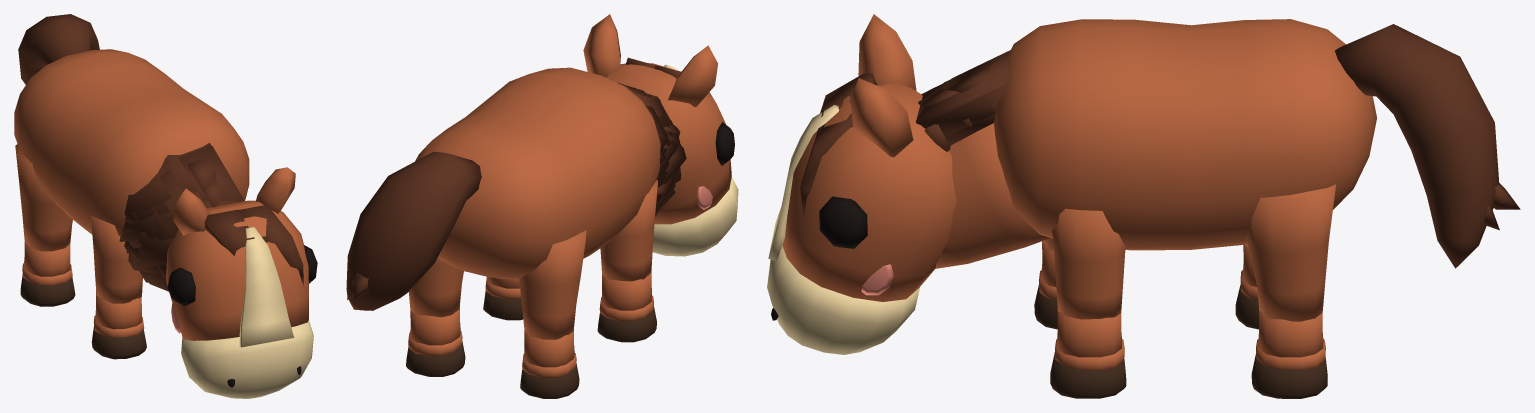
File: feeding.glb
3 views of the same model, side by side, from view 1: azimuth 30°, elevation 25°; view 2: azimuth 150°, elevation 25°; view 3: azimuth 270°, elevation 25° (orthographic). The views are drawn at different scales.
Parts seen in each view (by area): view 1: body, head, mane, muzzle, blaze, tail, leg_hr_upper, leg_fr_upper, forelock, leg_fr_lower, eyes, leg_hr_lower (+6 smaller); view 2: body, tail, head, leg_hr_upper, leg_fr_upper, muzzle, mane, leg_hl_upper, ear_r, ear_l, leg_fr_lower, leg_hl_lower (+10 smaller); view 3: body, head, tail, leg_hl_upper, neck, muzzle, leg_fl_upper, mane, ear_l, ear_r, leg_fl_lower, leg_hl_lower (+10 smaller).
Part boxes in pixels (bbox=[...]): body: bbox=[14, 49, 249, 236]; head: bbox=[166, 200, 308, 340]; mane: bbox=[119, 143, 244, 291]; muzzle: bbox=[181, 320, 313, 398]; blaze: bbox=[239, 227, 294, 347]; tail: bbox=[18, 14, 99, 84]; leg_hr_upper: bbox=[15, 144, 72, 251]; leg_fr_upper: bbox=[91, 215, 142, 303]; forelock: bbox=[204, 205, 303, 285]; leg_fr_lower: bbox=[95, 291, 142, 329]; eyes: bbox=[167, 245, 317, 387]; leg_hr_lower: bbox=[24, 241, 70, 276]; body: bbox=[415, 67, 660, 278]; tail: bbox=[346, 151, 481, 310]; head: bbox=[607, 63, 731, 224]; leg_hr_upper: bbox=[519, 230, 586, 339]; leg_fr_upper: bbox=[600, 180, 658, 281]; muzzle: bbox=[652, 177, 738, 256]; mane: bbox=[617, 82, 686, 216]; leg_hl_upper: bbox=[409, 258, 463, 317]; ear_r: bbox=[668, 45, 717, 107]; ear_l: bbox=[583, 14, 620, 77]; leg_fr_lower: bbox=[601, 270, 652, 310]; leg_hl_lower: bbox=[410, 306, 460, 345]; body: bbox=[994, 19, 1376, 250]; head: bbox=[782, 83, 956, 301]; tail: bbox=[1335, 24, 1520, 268]; leg_hl_upper: bbox=[1246, 184, 1335, 321]; neck: bbox=[935, 123, 1049, 268]; muzzle: bbox=[767, 246, 919, 354]; leg_fl_upper: bbox=[1052, 208, 1125, 319]; mane: bbox=[915, 49, 1012, 151]; ear_l: bbox=[850, 78, 913, 157]; ear_r: bbox=[858, 14, 916, 90]; leg_fl_lower: bbox=[1057, 311, 1121, 357]; leg_hl_lower: bbox=[1258, 310, 1323, 357].
Size of the model in its own units: 0.9521 by 1.38 by 2.88.
